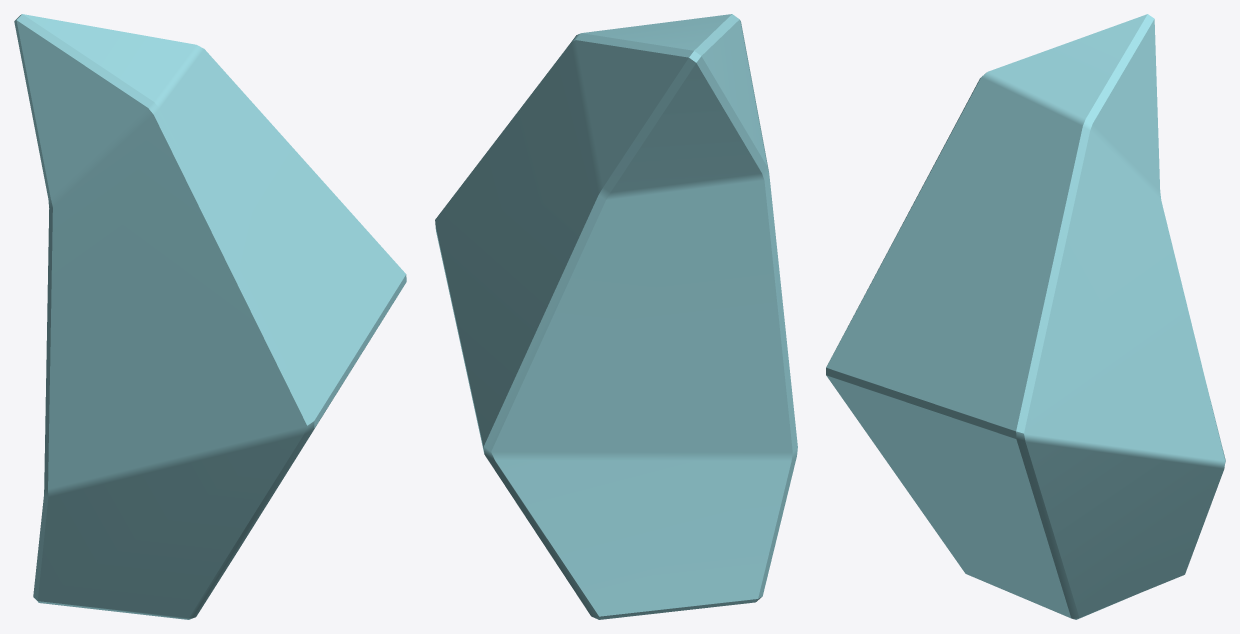
File: Corruption Node small.fbx
3 renders of one model, left to right at view 1: azimuth 30°, elevation 25°; view 2: azimuth 150°, elevation 25°; view 3: azimuth 270°, elevation 25°, orthographic. The views are drawn at different scales.
Parts seen in each view (by area): view 1: pCone11; view 2: pCone11; view 3: pCone11.
Boxes of the visible parts, <box> form: pCone11: <box>14,14,406,619</box>; pCone11: <box>435,14,797,619</box>; pCone11: <box>826,14,1225,619</box>.
Bounding box in the file's own units: 2.32 × 3.49 × 2.39.
